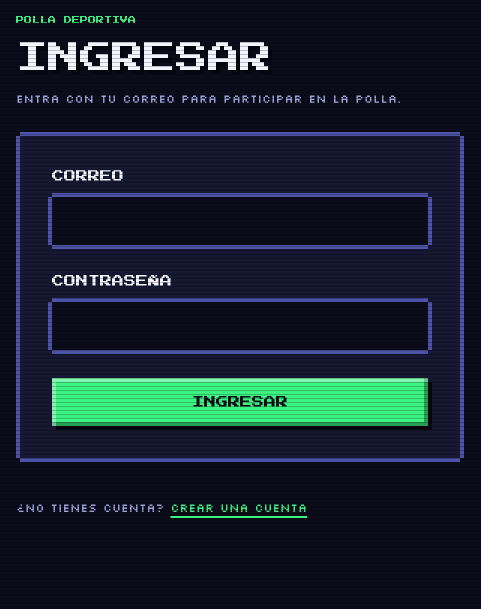
Scenario: sign in (/ingresar) › 401: one message that never says which part was wrong
In the field labelled "Correo": (240, 221) [52, 197, 428, 245], type "ana@liga.test"
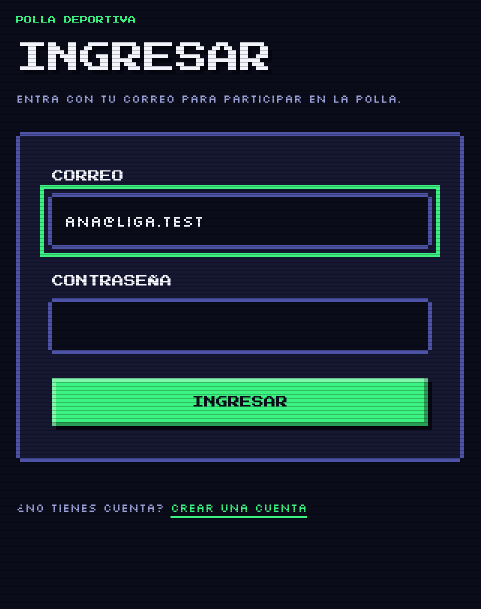
In the password field labelled "Contraseña": (240, 326) [52, 302, 428, 350], type "clave-incorrecta"
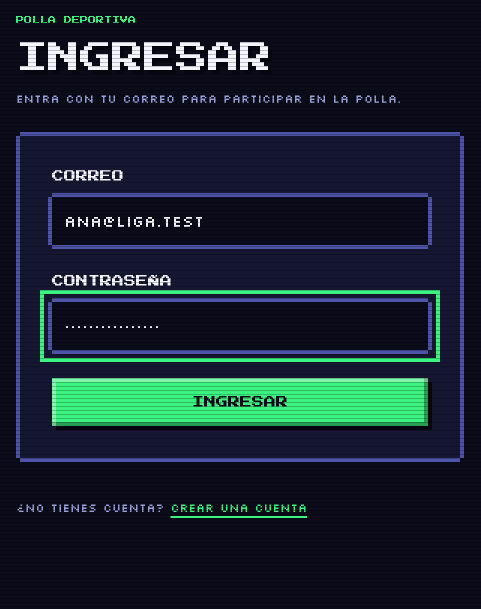
Click the button "Ingresar": (240, 402) [52, 378, 428, 426]
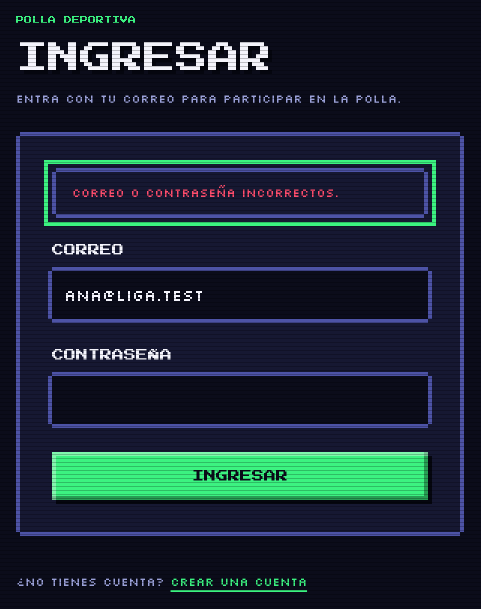
Now the field labelled "Correo" holds "ana@liga.test", box [52, 271, 428, 319]
Now the message reads "Correo o contraseña incorrectos.", box [72, 185, 339, 200]
Now the password field labelled "Contraseña" is empty, box [52, 376, 428, 424]
